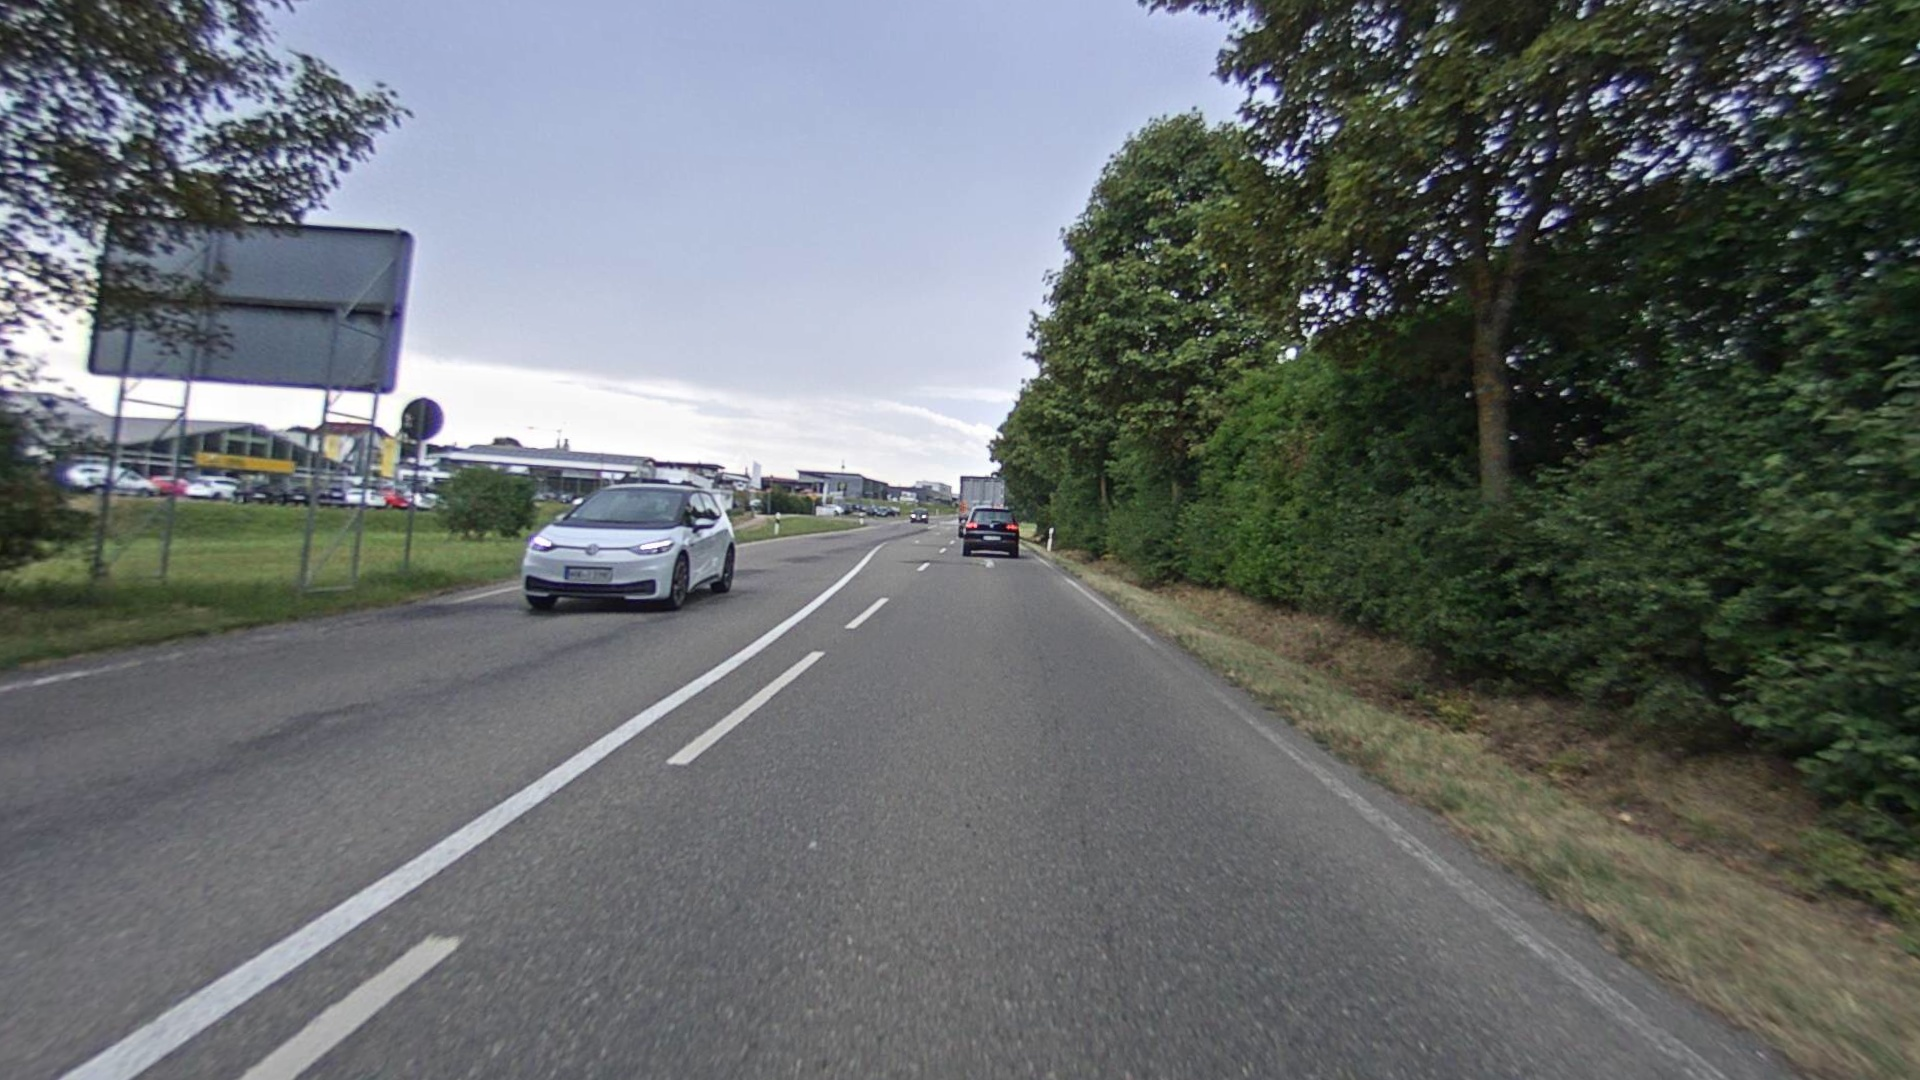car: (516, 480, 738, 617)
